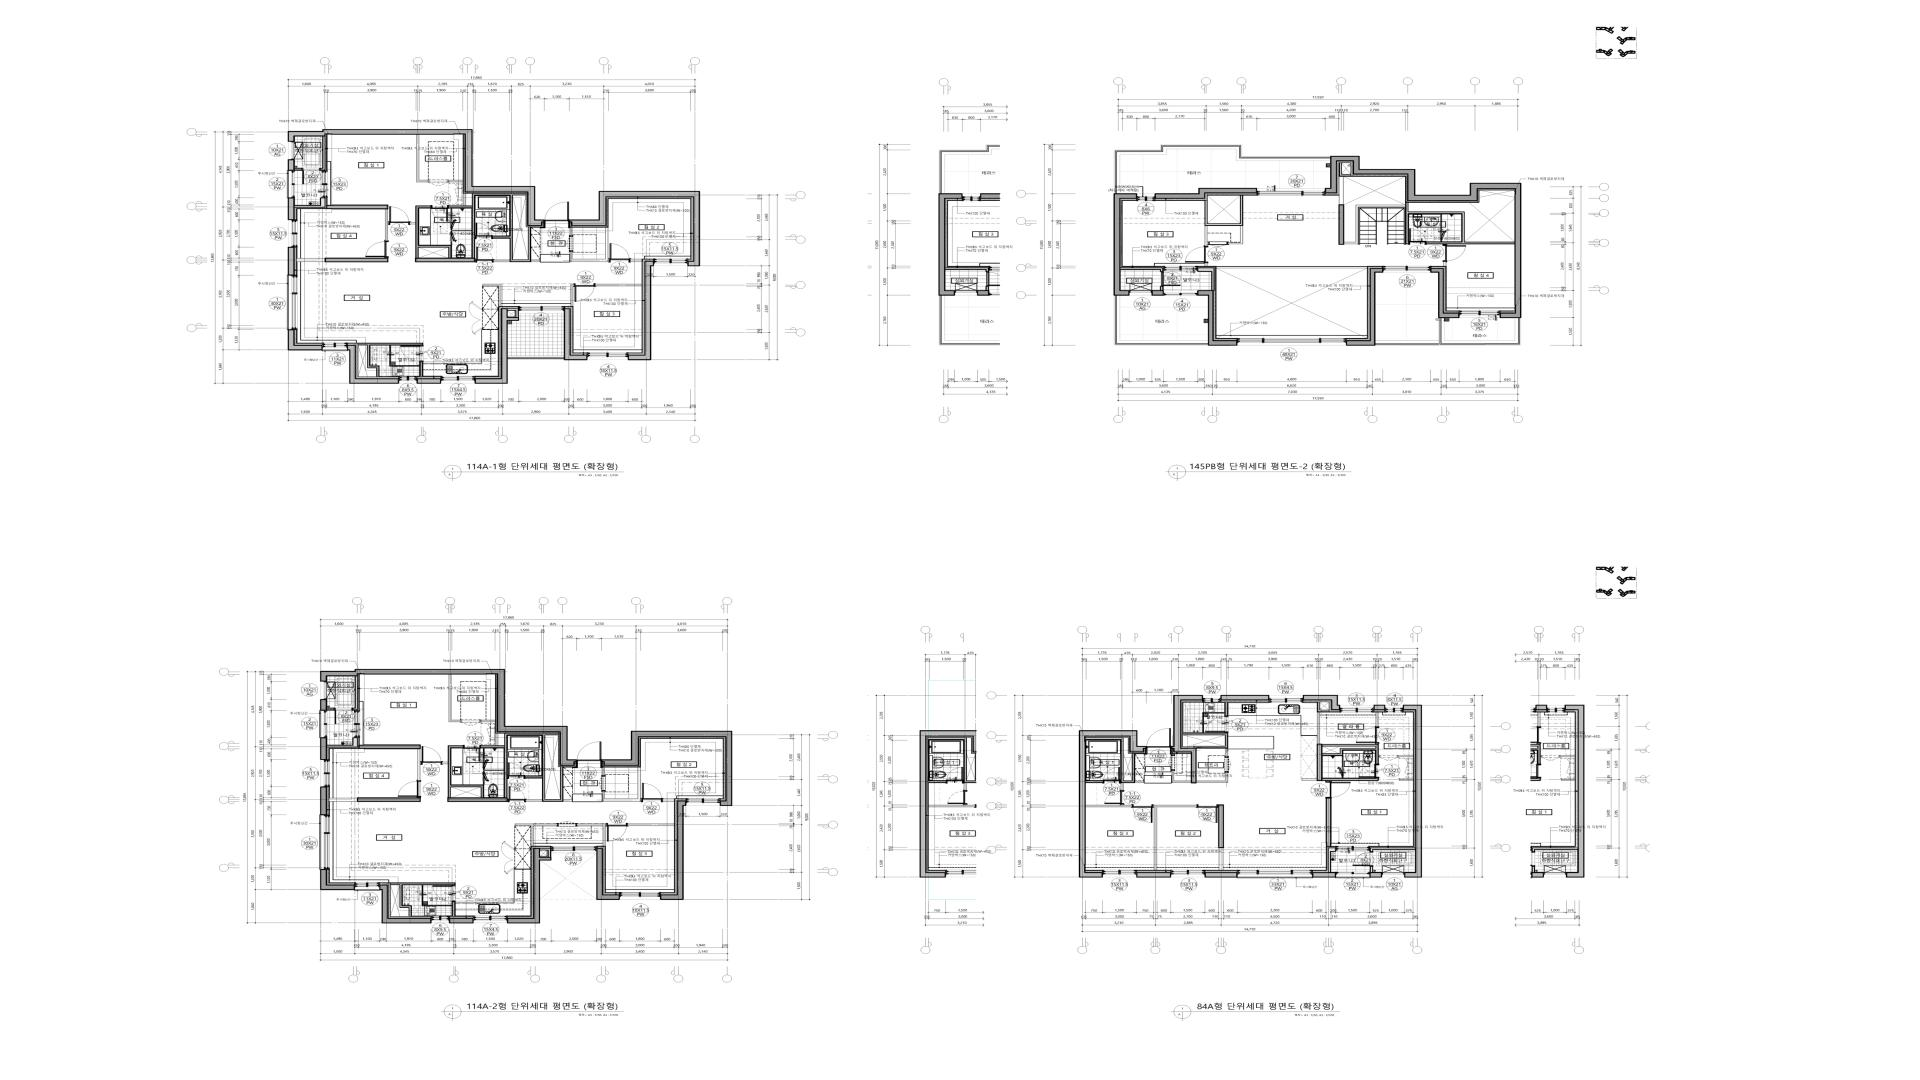door: (576, 741, 601, 767), (543, 203, 570, 228), (1146, 728, 1171, 754), (1325, 781, 1350, 799), (608, 243, 630, 262), (605, 823, 628, 841), (1443, 244, 1466, 261), (400, 345, 423, 363), (1356, 727, 1379, 744), (1205, 716, 1229, 733), (641, 783, 662, 802), (388, 207, 409, 225), (574, 284, 595, 302), (1197, 804, 1218, 823), (1133, 804, 1154, 823), (421, 746, 442, 765), (398, 781, 421, 798), (433, 885, 455, 902), (365, 241, 389, 257), (1185, 247, 1208, 262), (463, 745, 481, 762), (1408, 228, 1427, 245), (475, 223, 493, 240), (302, 167, 320, 185), (1358, 764, 1379, 778), (1104, 790, 1125, 804), (508, 762, 525, 779), (508, 786, 526, 802), (475, 247, 493, 262), (1102, 767, 1121, 783), (335, 708, 352, 724), (431, 206, 448, 222), (429, 179, 448, 186), (460, 720, 481, 725), (1225, 757, 1232, 773), (1208, 241, 1228, 247), (1379, 756, 1398, 761), (558, 822, 576, 827)
wall: (1325, 156, 1522, 318), (320, 669, 576, 766), (287, 129, 543, 225), (1114, 145, 1331, 194), (1079, 731, 1146, 878), (601, 731, 732, 806), (570, 191, 700, 266), (1344, 203, 1515, 244), (481, 733, 572, 802), (448, 194, 539, 262), (1114, 295, 1208, 345), (1375, 318, 1520, 345), (506, 848, 551, 923), (475, 309, 520, 384), (1403, 704, 1422, 878), (1085, 737, 1143, 790), (1346, 268, 1383, 345), (1154, 804, 1197, 870), (1171, 695, 1203, 783), (659, 800, 686, 901), (628, 261, 654, 360), (1113, 194, 1137, 295), (409, 206, 452, 257), (442, 745, 484, 798), (390, 882, 455, 916), (359, 343, 423, 377), (1197, 290, 1237, 345), (1204, 195, 1244, 247), (347, 345, 400, 384), (380, 885, 431, 923), (1431, 268, 1460, 318), (603, 767, 641, 802), (570, 228, 608, 262), (596, 848, 620, 901), (564, 309, 588, 360), (1323, 744, 1379, 764), (1155, 189, 1257, 199), (1183, 733, 1228, 757), (514, 824, 558, 847), (320, 869, 355, 890), (287, 330, 322, 351), (576, 824, 605, 847), (1303, 695, 1340, 711), (448, 674, 460, 723), (417, 135, 429, 182), (1317, 702, 1329, 744), (483, 284, 501, 306), (1197, 268, 1215, 290), (326, 204, 388, 210), (327, 737, 357, 748), (1197, 773, 1228, 783), (415, 257, 475, 262), (1325, 799, 1332, 847), (294, 198, 324, 207), (1221, 695, 1270, 700), (357, 798, 421, 802), (324, 258, 388, 262), (359, 745, 421, 749), (1172, 770, 1191, 783), (447, 798, 508, 802), (1218, 804, 1224, 848), (1137, 872, 1171, 878), (508, 356, 563, 360), (1205, 872, 1238, 878), (1338, 204, 1344, 245), (1317, 744, 1323, 781), (320, 786, 327, 815), (287, 247, 294, 276), (1328, 848, 1336, 872), (352, 676, 357, 711), (1370, 848, 1415, 852), (320, 137, 326, 170), (1340, 162, 1352, 177), (1121, 268, 1163, 272), (1312, 872, 1336, 878), (1323, 778, 1379, 781), (320, 737, 327, 760), (287, 198, 294, 220), (1338, 177, 1344, 204), (448, 918, 473, 923), (417, 378, 442, 384), (595, 284, 642, 286), (1085, 804, 1133, 807), (1218, 848, 1224, 870), (328, 798, 357, 802), (297, 258, 324, 262), (541, 848, 551, 857), (508, 309, 518, 318), (418, 749, 421, 781), (385, 210, 388, 241), (287, 160, 294, 171), (1374, 704, 1386, 711), (1370, 872, 1382, 878), (320, 699, 327, 711), (451, 902, 456, 916), (1151, 290, 1164, 295), (628, 824, 674, 825), (571, 284, 574, 306), (419, 363, 423, 377), (1375, 712, 1379, 727), (630, 258, 642, 262), (1085, 781, 1102, 783), (481, 720, 496, 723), (1225, 702, 1228, 716), (662, 799, 674, 802), (496, 733, 498, 745), (295, 167, 302, 171), (603, 767, 605, 775), (570, 228, 572, 236), (1398, 756, 1414, 757), (1302, 779, 1317, 781), (448, 181, 463, 182), (1399, 779, 1414, 781), (327, 708, 334, 711), (1444, 261, 1447, 266), (1370, 866, 1373, 872), (1205, 262, 1208, 266), (1160, 286, 1163, 290)
window: (1237, 338, 1346, 345), (286, 276, 298, 330), (1238, 870, 1312, 878), (319, 815, 330, 869), (518, 306, 564, 314), (1257, 191, 1325, 196), (587, 352, 628, 360), (1383, 266, 1431, 273), (620, 891, 659, 899), (551, 847, 596, 853), (686, 798, 720, 806), (654, 258, 687, 266), (442, 376, 475, 384), (473, 915, 506, 923), (1270, 695, 1303, 703), (1460, 311, 1499, 318), (289, 220, 298, 247), (286, 171, 295, 198), (320, 760, 330, 786), (355, 882, 380, 891), (1171, 870, 1205, 877), (1102, 870, 1137, 877), (1340, 705, 1374, 712), (1336, 872, 1370, 878), (319, 711, 327, 737), (352, 711, 360, 737), (323, 343, 347, 351), (1336, 845, 1370, 851), (320, 171, 327, 198), (1203, 695, 1221, 703), (1163, 266, 1197, 270), (400, 376, 417, 384), (431, 915, 448, 923), (1164, 291, 1197, 295), (1386, 705, 1403, 712), (320, 682, 327, 699), (1130, 290, 1151, 295), (1137, 196, 1155, 202), (289, 142, 294, 160), (1382, 873, 1404, 877)
